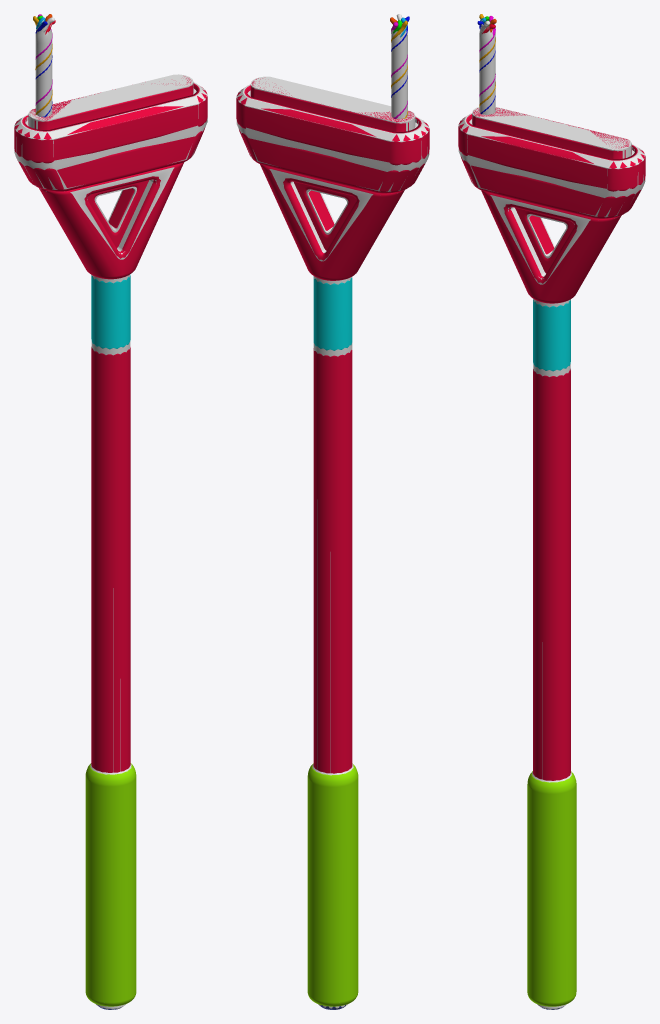
The model's file is Mop_bake.fbx.
3 views of the same model, side by side, from view 1: azimuth 30°, elevation 25°; view 2: azimuth 150°, elevation 25°; view 3: azimuth 330°, elevation 25° (orthographic). The views are drawn at different scales.
Visible parts, largest first — view 1: mop.001_high_1, mop.001_low, mop_low, mop.002_high_1, mop_high_1; view 2: mop.001_high_1, mop.001_low, mop.002_high_1, mop_low, mop_high_1; view 3: mop.001_high_1, mop.001_low, mop.002_high_1, mop_low, mop_high_1.
Boxes of the visible parts, x1,y1,x2,y2 form: mop.001_high_1: [14, 76, 207, 1009]; mop.001_low: [14, 74, 207, 1009]; mop_low: [35, 18, 52, 116]; mop.002_high_1: [87, 180, 148, 247]; mop_high_1: [33, 14, 55, 117]; mop.001_high_1: [236, 78, 429, 1009]; mop.001_low: [236, 76, 429, 1008]; mop.002_high_1: [294, 182, 356, 250]; mop_low: [391, 23, 407, 118]; mop_high_1: [390, 14, 409, 118]; mop.001_high_1: [458, 107, 645, 1009]; mop.001_low: [458, 107, 645, 1009]; mop.002_high_1: [515, 208, 574, 273]; mop_low: [479, 20, 495, 114]; mop_high_1: [477, 14, 496, 114].
Size of the model in its own units: 38.2 by 199 by 10.87.
